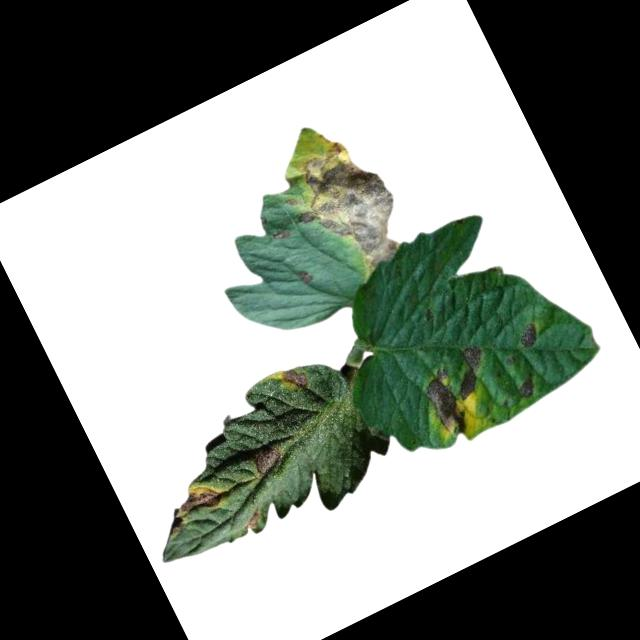Early_blight: (273, 129, 421, 293), (413, 341, 510, 439), (173, 474, 231, 523), (247, 439, 292, 481), (280, 363, 312, 396), (515, 373, 544, 401), (516, 324, 544, 350), (240, 507, 265, 532), (273, 225, 296, 246), (295, 267, 316, 290)
